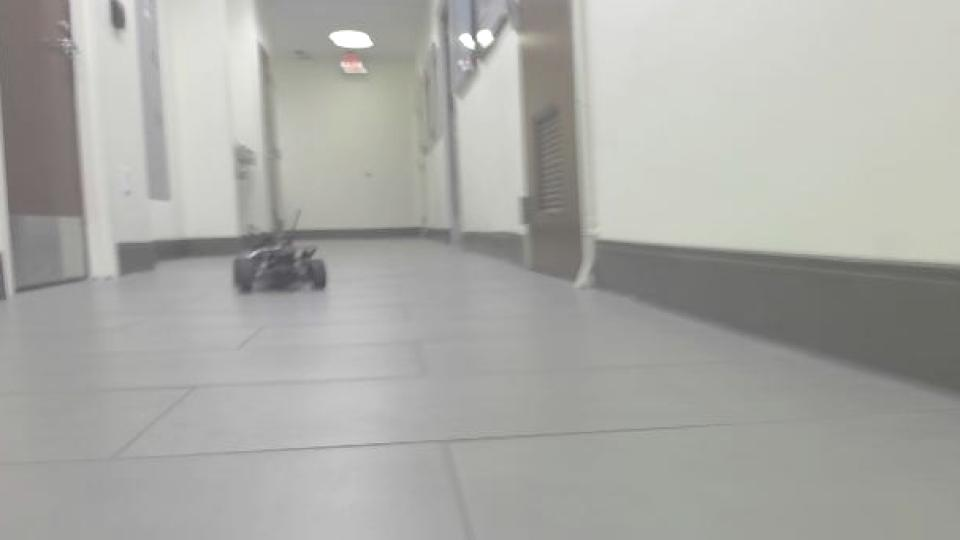car: (230, 206, 332, 297)
